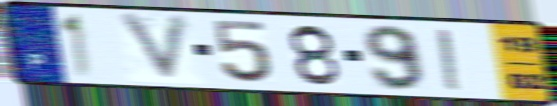1: (58, 11, 93, 80)
5: (210, 19, 276, 85)
8: (286, 23, 342, 87)
9: (359, 23, 428, 93)
I: (433, 26, 466, 93)
V: (115, 12, 194, 86)
